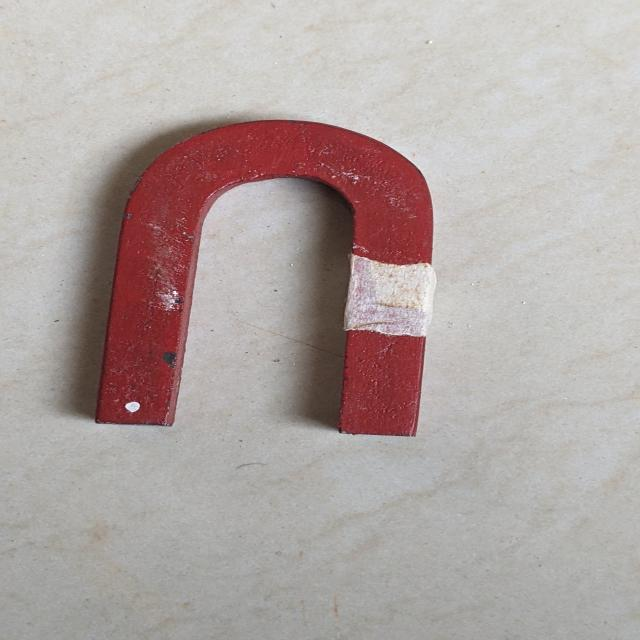Magnet: (76, 101, 460, 447)
